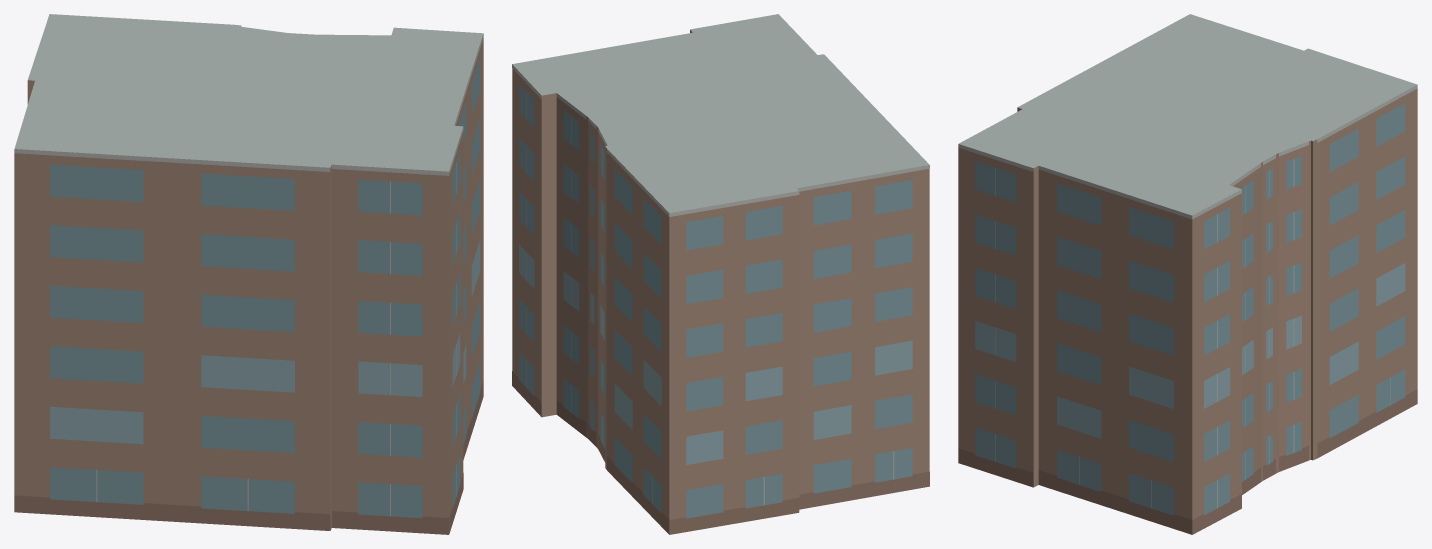
File: survey-upis-32880798.glb
3 views of the same model, side by side, from view 1: azimuth 30°, elevation 25°; view 2: azimuth 150°, elevation 25°; view 3: azimuth 270°, elevation 25° (orthographic). The views are drawn at different scales.
Visible parts, largest first — view 1: survey-upis-32880798.tmp; view 2: survey-upis-32880798.tmp; view 3: survey-upis-32880798.tmp.
Boxes of the visible parts, left/top/right/bottom form: survey-upis-32880798.tmp: left=14, top=14, right=483, bottom=534; survey-upis-32880798.tmp: left=512, top=14, right=929, bottom=534; survey-upis-32880798.tmp: left=958, top=14, right=1417, bottom=534.
Size of the model in its own units: 28.06 by 20.7 by 27.01.
